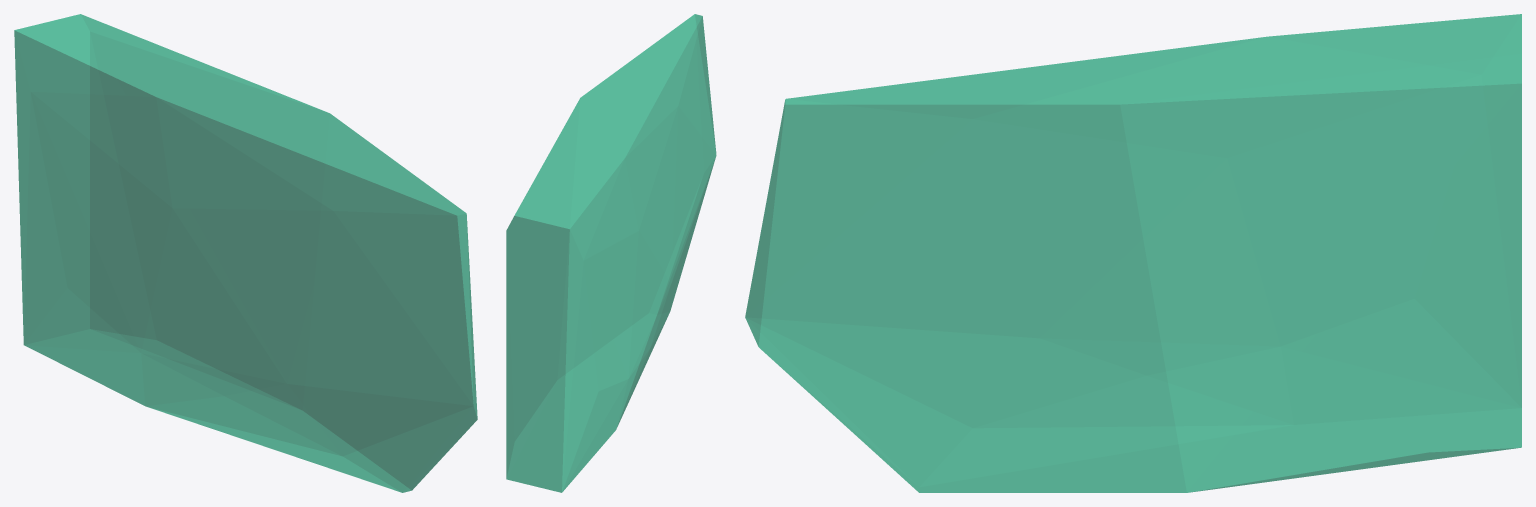
3 renders of one model, left to right at view 1: azimuth 30°, elevation 25°; view 2: azimuth 150°, elevation 25°; view 3: azimuth 270°, elevation 25°, orthographic. The views are drawn at different scales.
Parts seen in each view (by area): view 1: Shape_IndexedFaceSet.040_Shape_IndexedFaceSet.9043; view 2: Shape_IndexedFaceSet.040_Shape_IndexedFaceSet.9043; view 3: Shape_IndexedFaceSet.040_Shape_IndexedFaceSet.9043.
Part boxes in pixels (box(x1,y1,x2,y2)): Shape_IndexedFaceSet.040_Shape_IndexedFaceSet.9043: box(14, 14, 477, 492); Shape_IndexedFaceSet.040_Shape_IndexedFaceSet.9043: box(506, 14, 716, 492); Shape_IndexedFaceSet.040_Shape_IndexedFaceSet.9043: box(745, 14, 1521, 492).
Size of the model in its own units: 0.00638 by 0.0128 by 0.0231.
